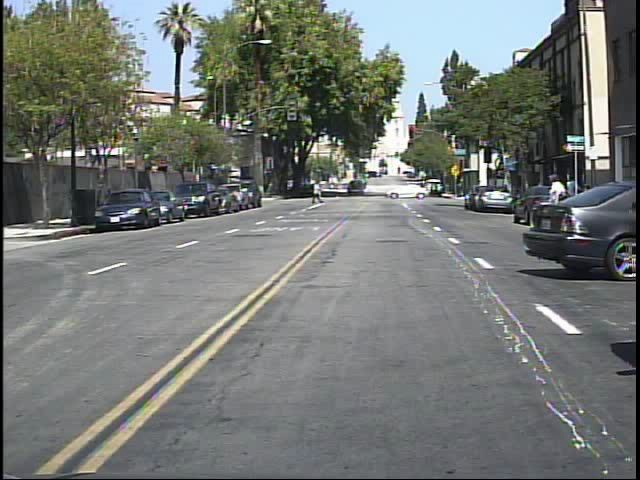person: (534, 167, 566, 245), (307, 176, 325, 208)
